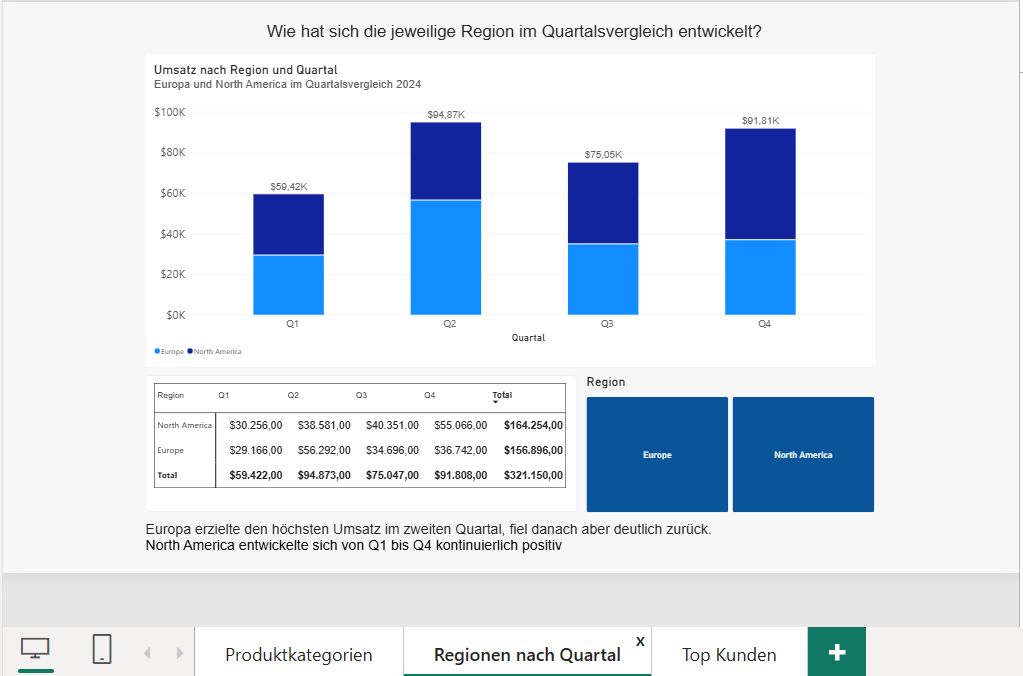

The dashboard page shown, as its layout file describes it:
{"tool":"powerbi","page":{"name":"Regionen nach Quartal","canvas":[1920,1080],"ordinal":1},"visuals":[{"type":"textbox","box":[10.3,37,1910.1,78.2],"z":0},{"type":"pivotTable","fields":{"Columns":["FactOrders.Quartal"],"Rows":["FactOrders.Region"],"Values":["FactOrders.Gesamtumsatz"]},"box":[270,705,815,257.5],"z":1000},{"type":"advancedSlicerVisual","fields":{"Values":["DimCustomer.Region"]},"box":[1103.3,703.9,545.5,261.4],"z":2000},{"type":"columnChart","title":"Umsatz nach Region und Quartal","fields":{"Category":["DimDate.Quartal"],"Series":["FactOrders.Region"],"Y":["FactOrders.Gesamtumsatz"]},"box":[269.6,98.8,1379.1,590.7],"z":3000},{"type":"textbox","box":[269.6,979.8,1377,100.9],"z":4000}]}

Visuals, with their boxes on the page's 1920x1080 design canvas (x1, y1, x2, y2). These are canvas units, not pixel positions in the 1023x676 screenshot, which may show the page scaled, cropped or inside an application window:
textbox: [10, 37, 1920, 115]
pivotTable - FactOrders.Quartal x FactOrders.Region: [270, 705, 1085, 962]
advancedSlicerVisual - DimCustomer.Region: [1103, 704, 1649, 965]
"Umsatz nach Region und Quartal" columnChart: [270, 99, 1649, 690]
textbox: [270, 980, 1647, 1081]
